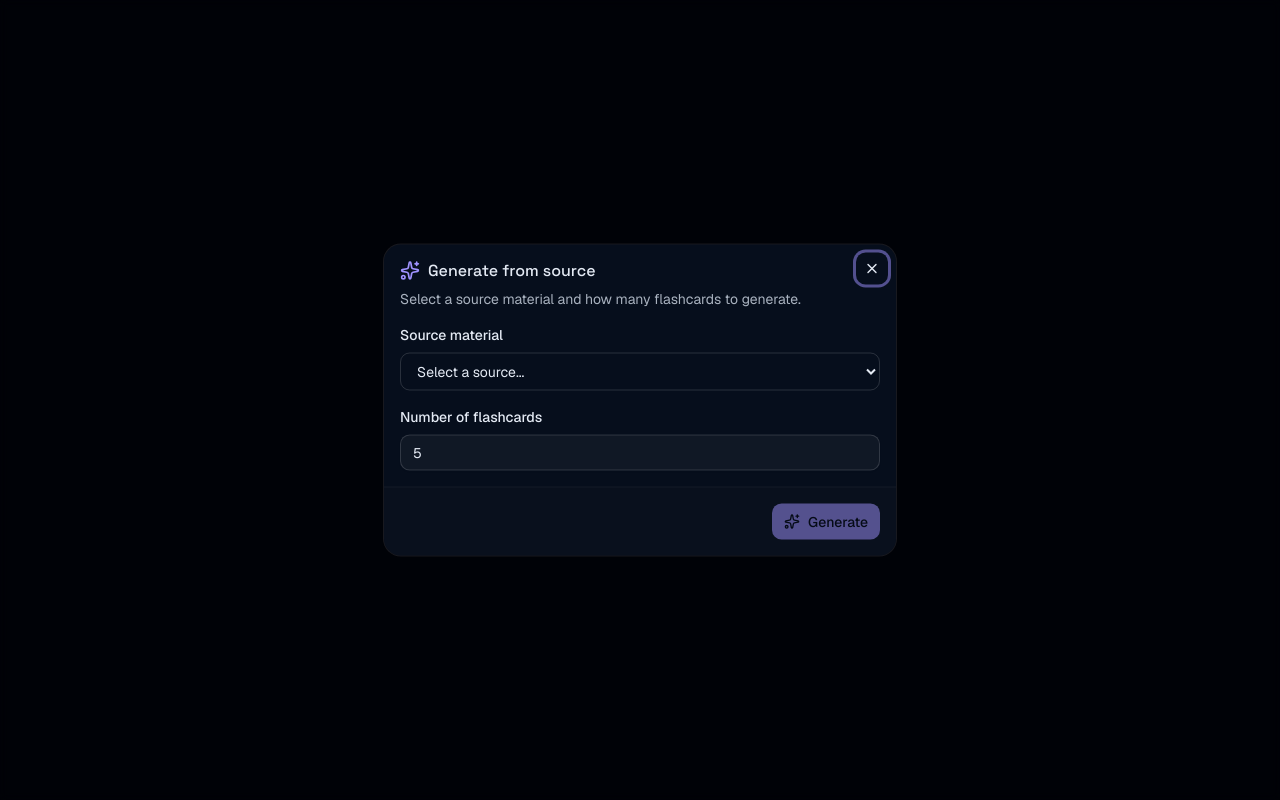
GenerateFromSourceDialog › reports a generation failure instead of entering review
Step 1. Select "Lecture notes (text)" in the dropdown labelled "Source material" → (640, 372), box [400, 352, 880, 390]
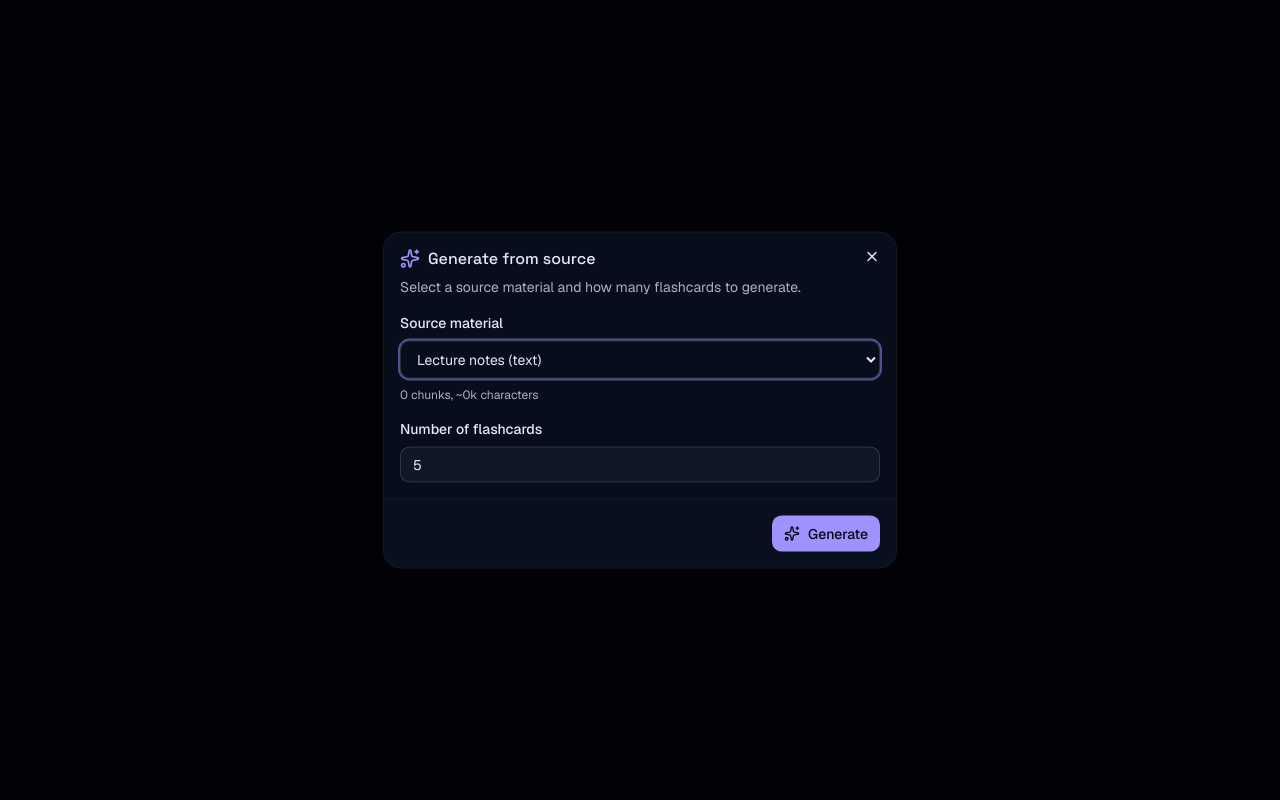
Step 2. Click the button "Generate" → click(826, 534), box [772, 516, 880, 552]
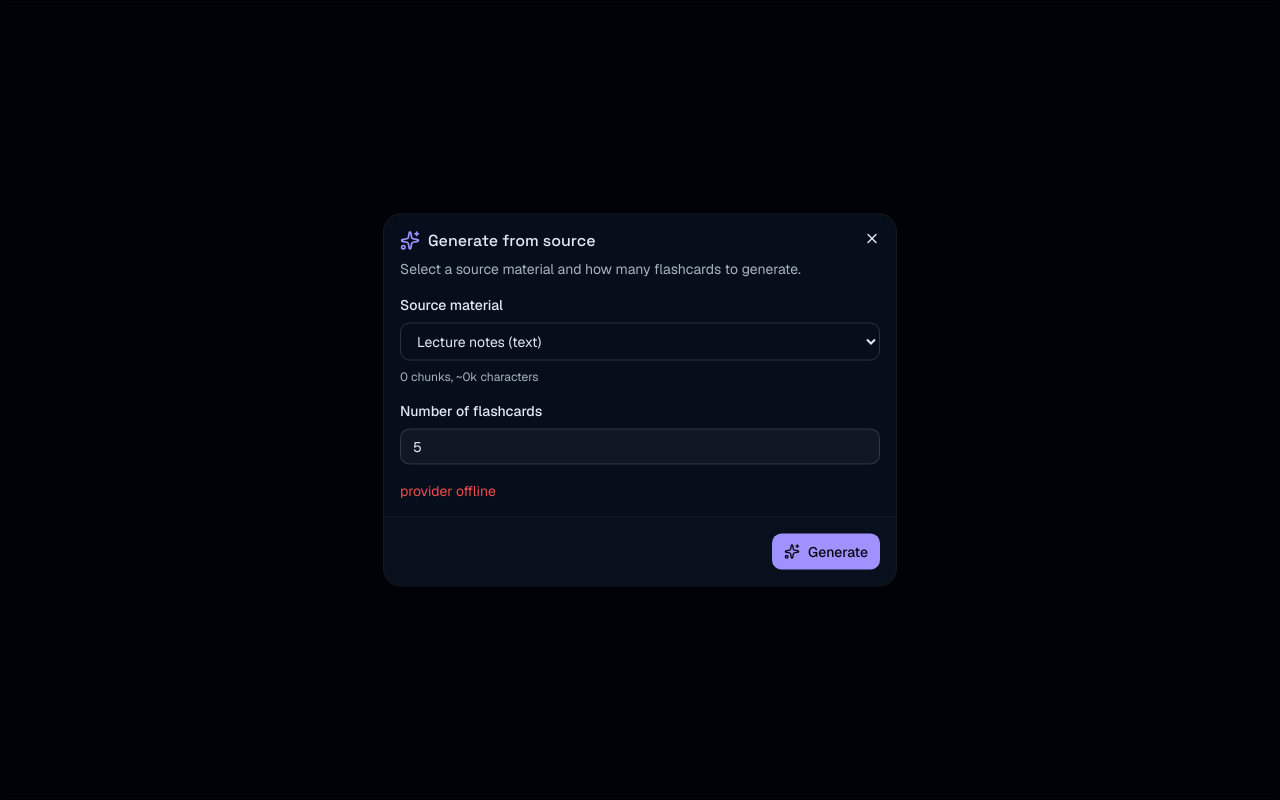
Check: the text "provider offline" is shown, box [400, 482, 496, 500]
